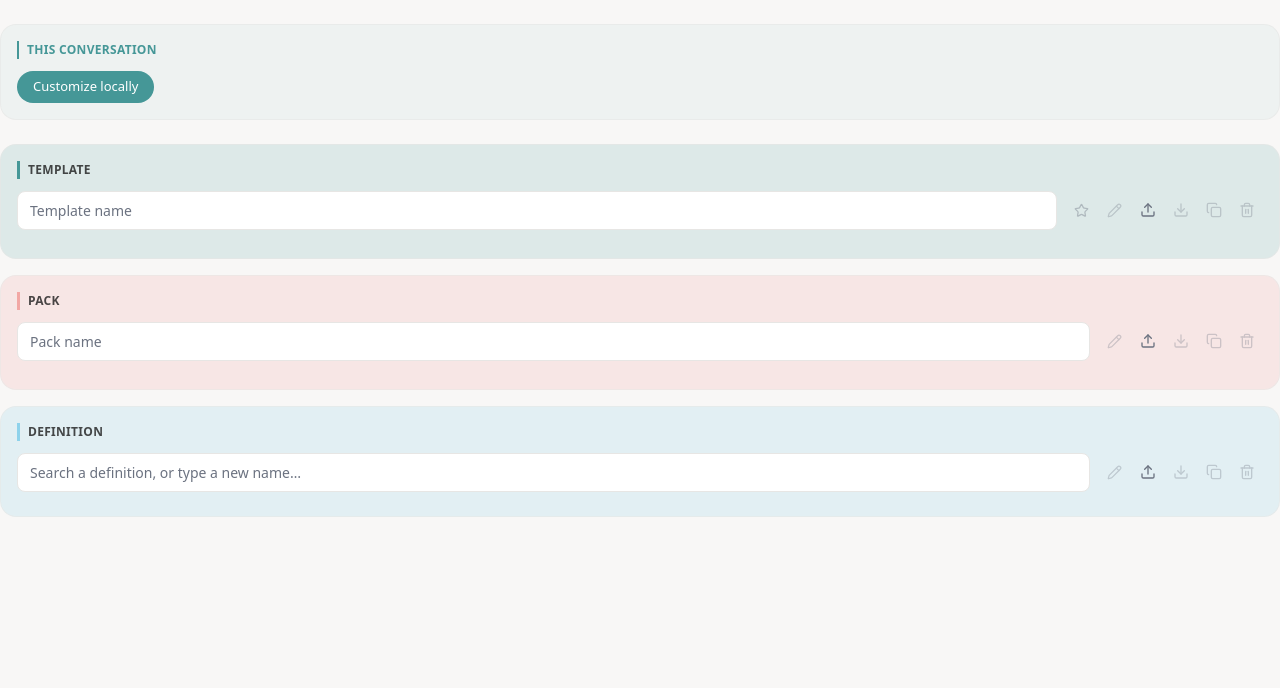
Scenario: BookView scopes › shows newly-created (untagged) session nodes in the template tree
This screenshot has width=1280, height=688.
Click the button with test id "customize-locally".
click(86, 87)  # box x1=17 y1=71 x2=154 y2=102
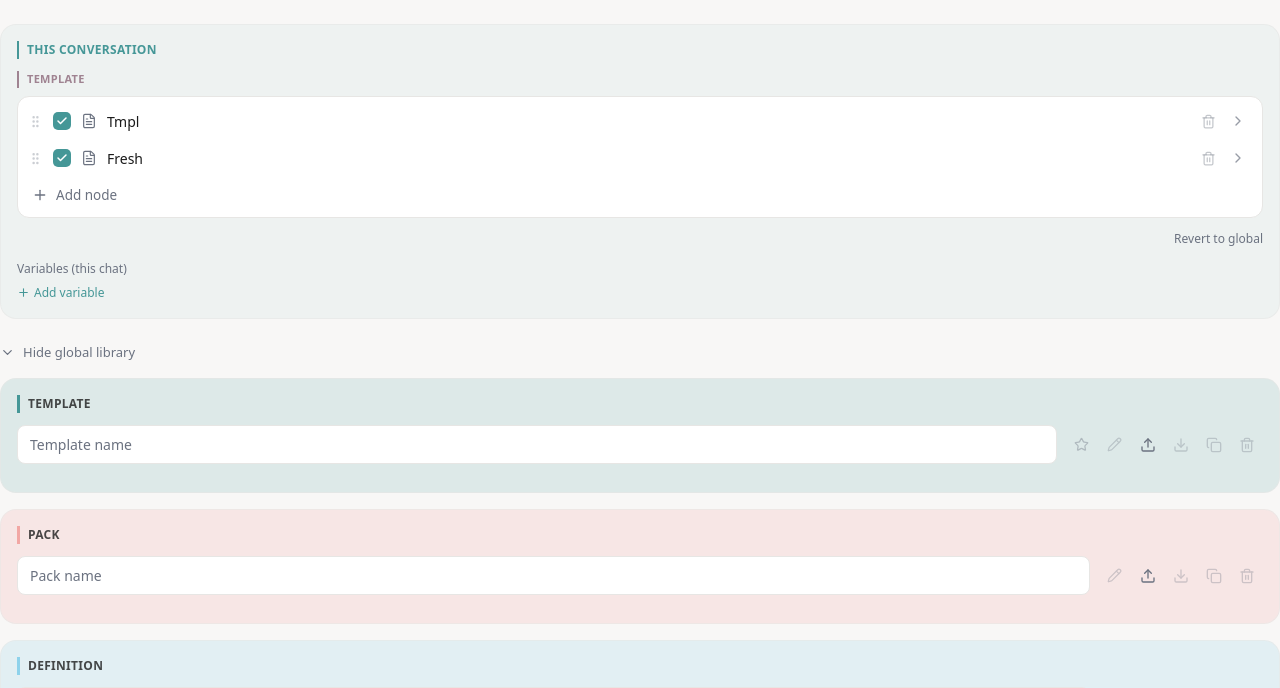
Now the button with test id "node-row-tmpl" is shown, box x1=28 y1=111 x2=1248 y2=131
Now the button with test id "node-row-fresh" is shown, box x1=28 y1=148 x2=1248 y2=168
